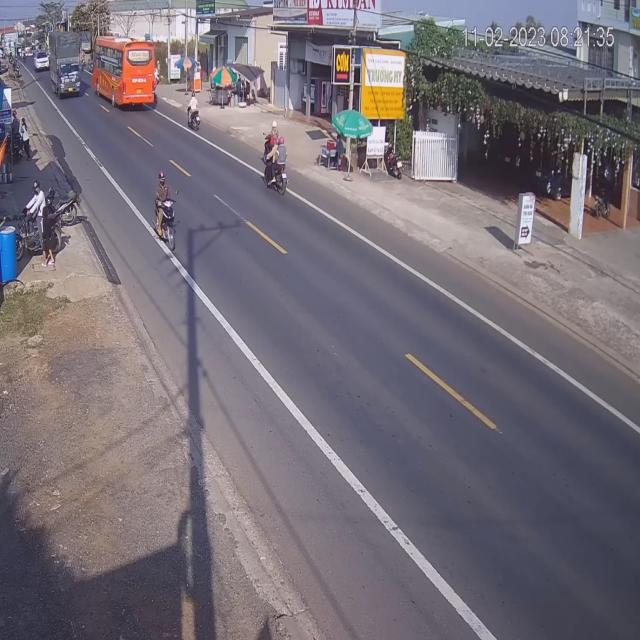bus: (95, 35, 159, 109)
car: (34, 51, 51, 74)
motorbike: (155, 171, 177, 257), (263, 138, 289, 199), (185, 92, 200, 133)
truck: (48, 29, 83, 100)
